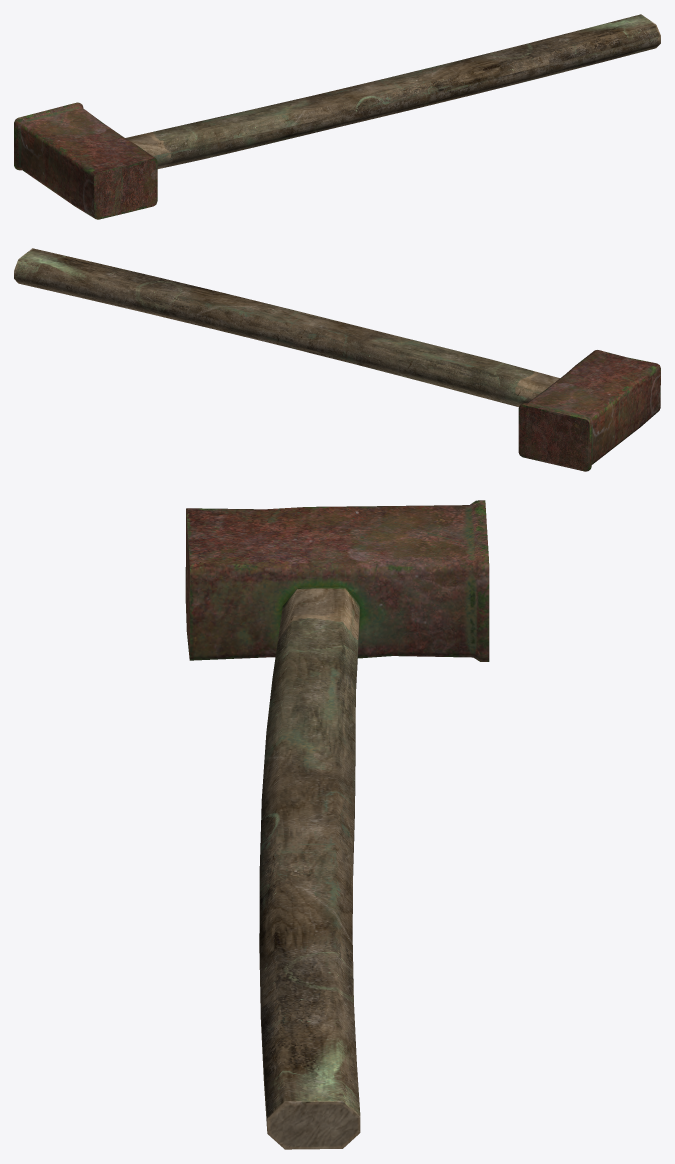
Rendered from hammer.glb.
3 views of the same model, one above another, from view 1: azimuth 30°, elevation 25°; view 2: azimuth 150°, elevation 25°; view 3: azimuth 270°, elevation 25° (orthographic). The views are drawn at different scales.
Visible parts, largest first — view 1: Hammer_LP; view 2: Hammer_LP; view 3: Hammer_LP.
Boxes of the visible parts, <box> form: Hammer_LP: <box>14,14,660,219</box>; Hammer_LP: <box>14,248,660,471</box>; Hammer_LP: <box>185,500,489,1149</box>.
Bounding box in the file's own units: 2.71 × 0.223 × 0.6014.
1 material, 1 textured.
